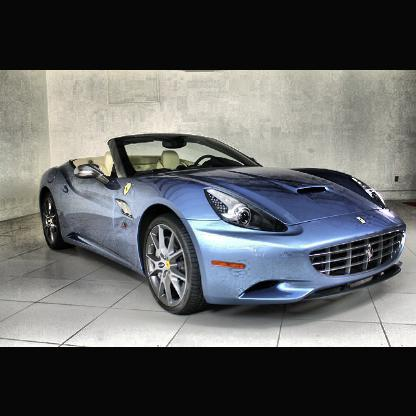Ferrari California Convertible 2012: (40, 134, 407, 316)
